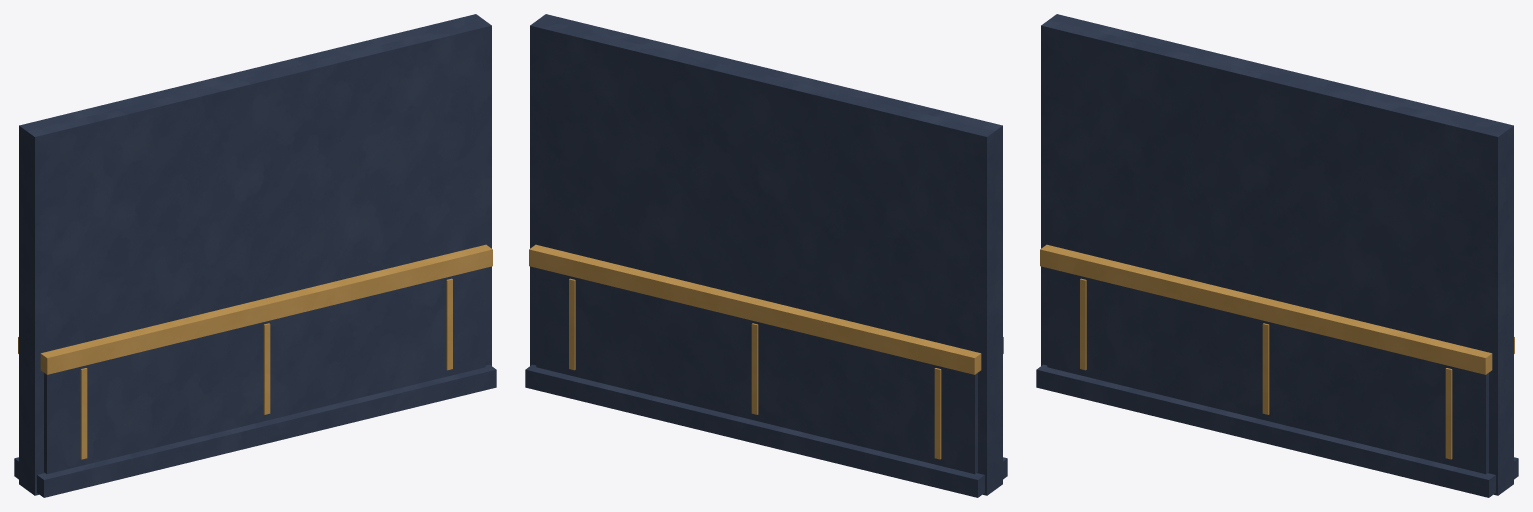
File: SM_Theater_Wall_Core4.fbx
3 views of the same model, side by side, from view 1: azimuth 30°, elevation 25°; view 2: azimuth 150°, elevation 25°; view 3: azimuth 330°, elevation 25° (orthographic).
Visible parts, largest first — view 1: SM_Theater_Wall_Core4_LOD0; view 2: SM_Theater_Wall_Core4_LOD0; view 3: SM_Theater_Wall_Core4_LOD0.
Boxes of the visible parts, x1=… form: SM_Theater_Wall_Core4_LOD0: x1=14, y1=14, x2=496, y2=497; SM_Theater_Wall_Core4_LOD0: x1=525, y1=14, x2=1007, y2=497; SM_Theater_Wall_Core4_LOD0: x1=1036, y1=14, x2=1518, y2=497.
Size of what is drawn, in the model's own units: 4 by 3 by 0.45.
